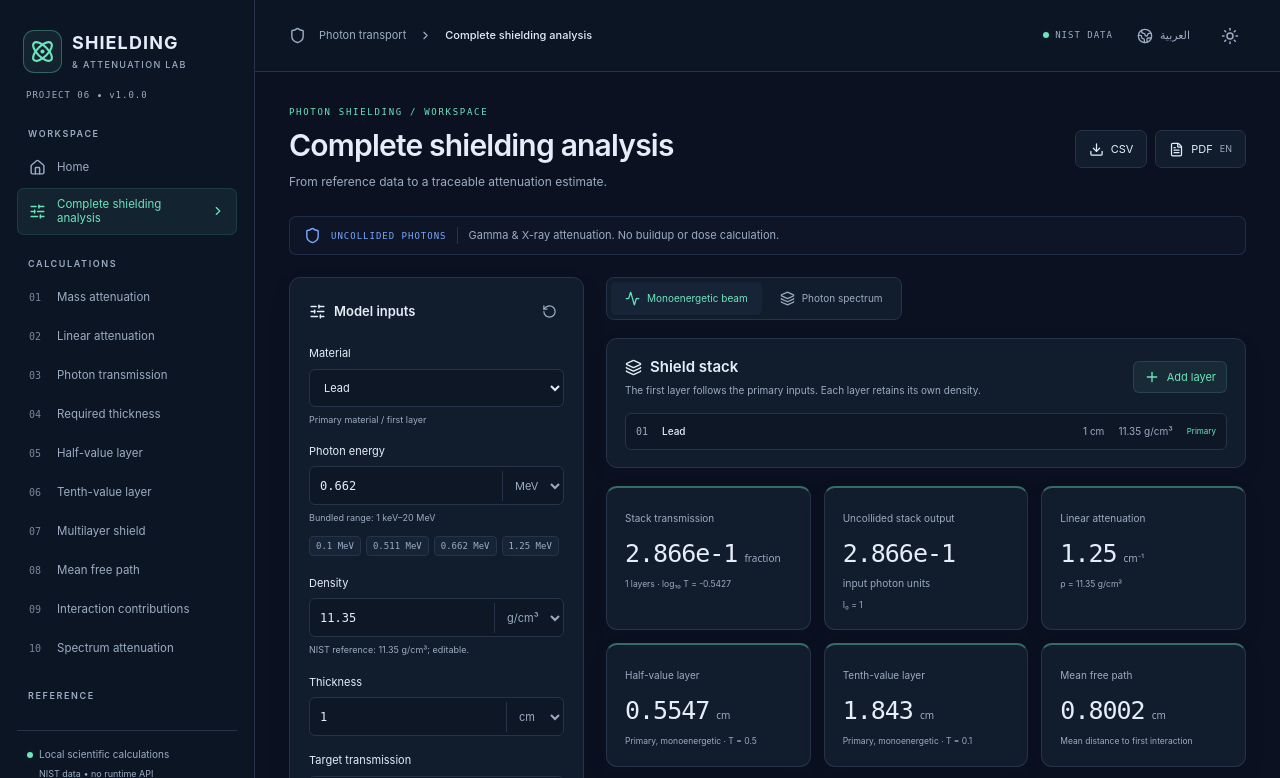
Test: DOM integration (jsdom; not browser-engine tests) › density and thickness unit changes preserve physical quantities
Select "kg/m³" in the dropdown named "Density unit" at (528, 618), box x1=494 y1=603 x2=563 y2=633
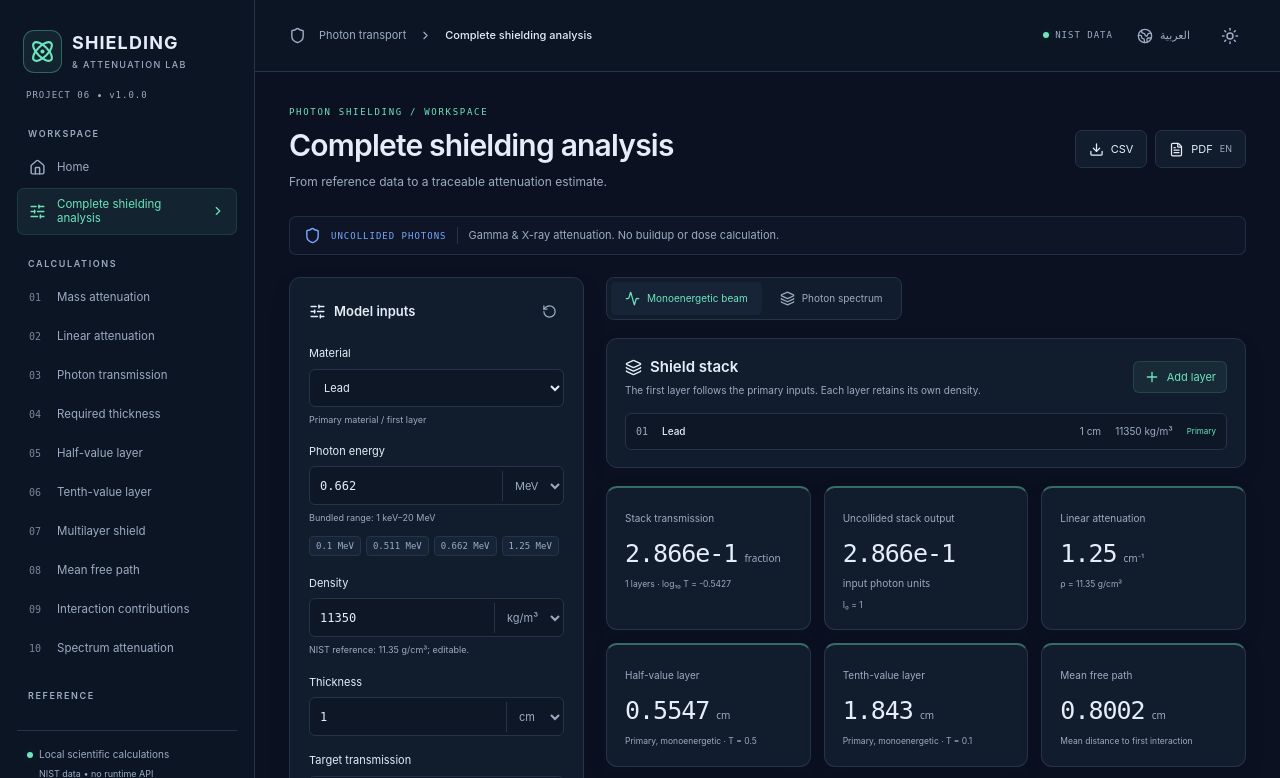
Select "mm" in the dropdown named "Thickness unit" at (534, 717), box x1=506 y1=702 x2=563 y2=732
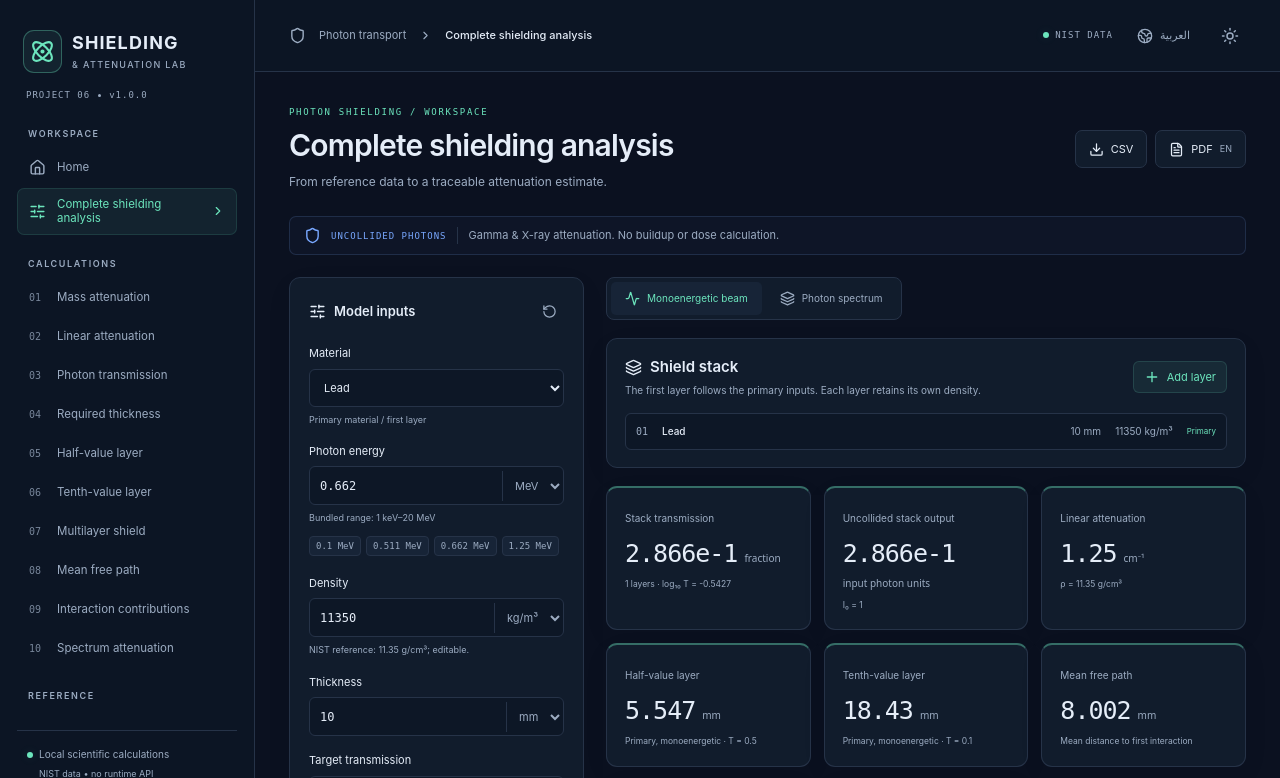
expect the number field labelled "Density" holds "11350": met, box x1=310 y1=600 x2=494 y2=636
expect the number field labelled "Thickness" holds "10": met, box x1=310 y1=699 x2=506 y2=735
